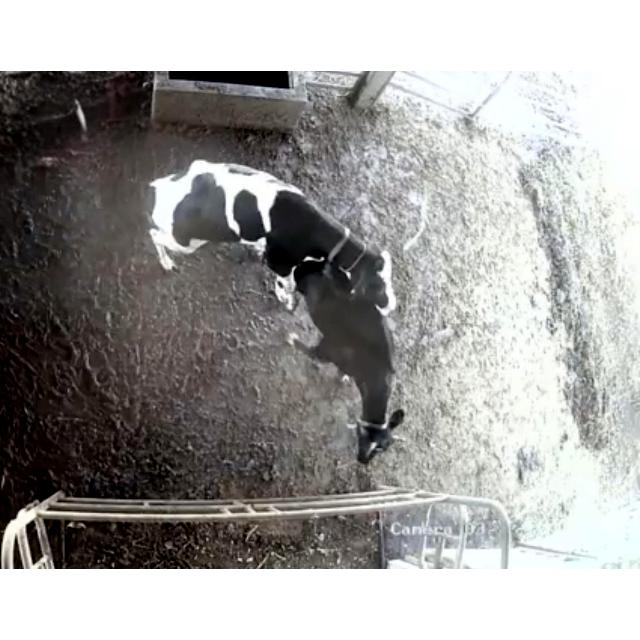ride: (110, 140, 426, 330)
